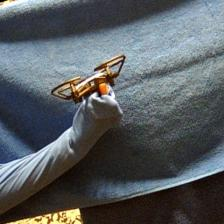drone: (51, 54, 127, 107)
